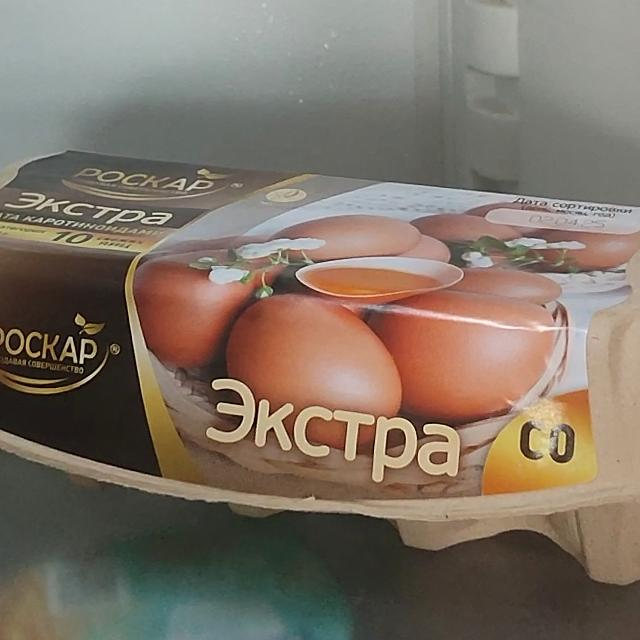egg: (0, 146, 640, 592)
